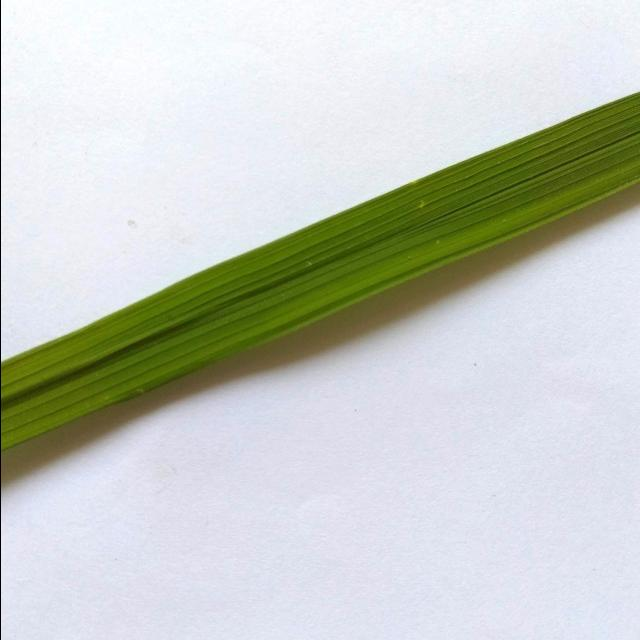healthy: (0, 44, 640, 498)
